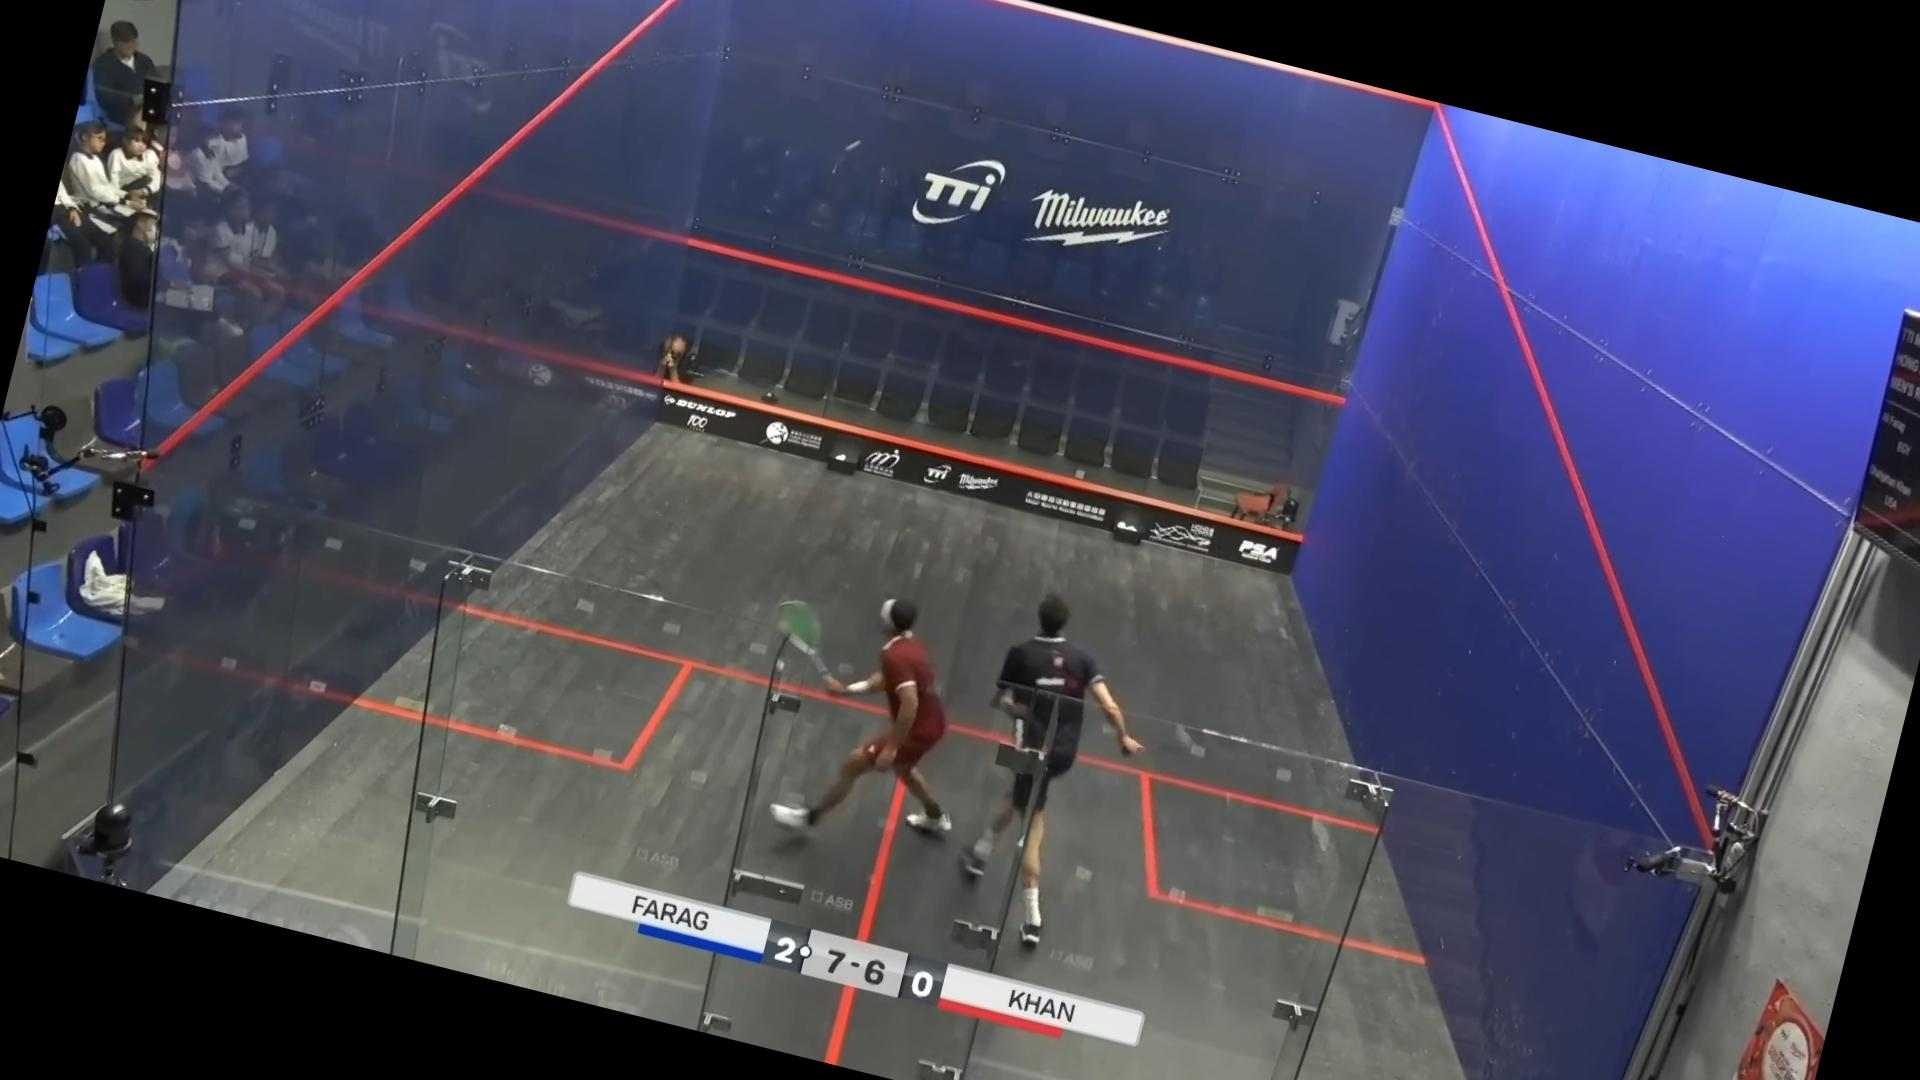Racket: (758, 591, 851, 682)
